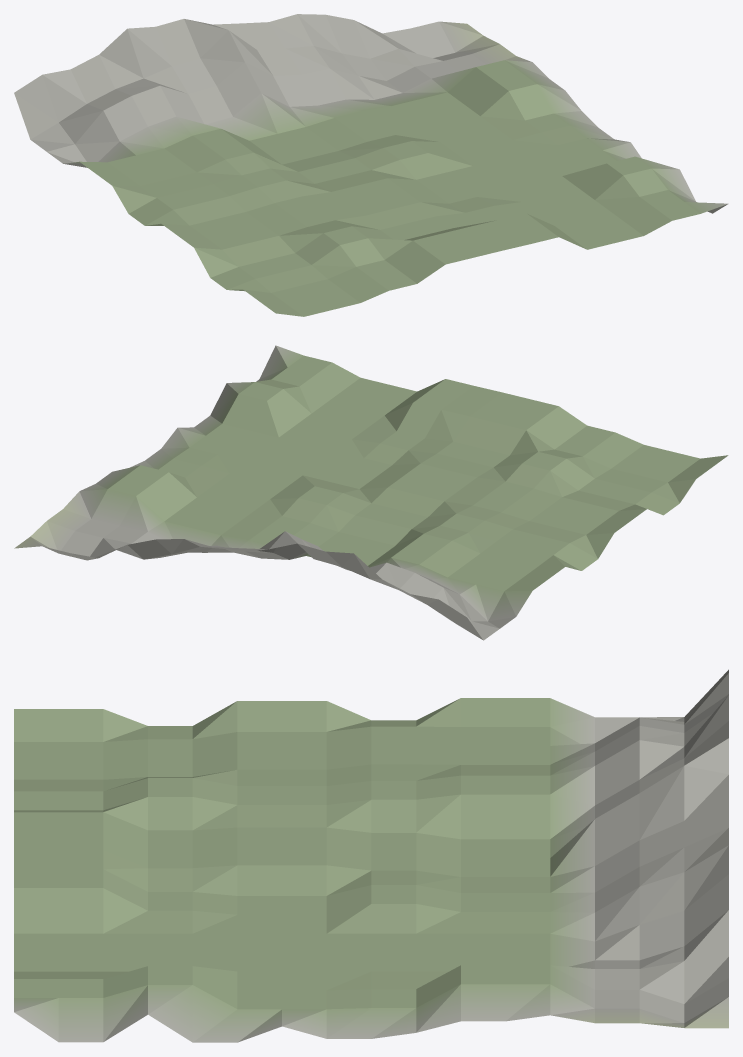
3 renders of one model, top to bottom at view 1: azimuth 30°, elevation 25°; view 2: azimuth 150°, elevation 25°; view 3: azimuth 270°, elevation 25°, orthographic. The views are drawn at different scales.
Size of the model in its own units: 32 by 5.98 by 32.
